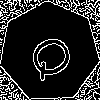Q: (24, 27, 84, 85)
